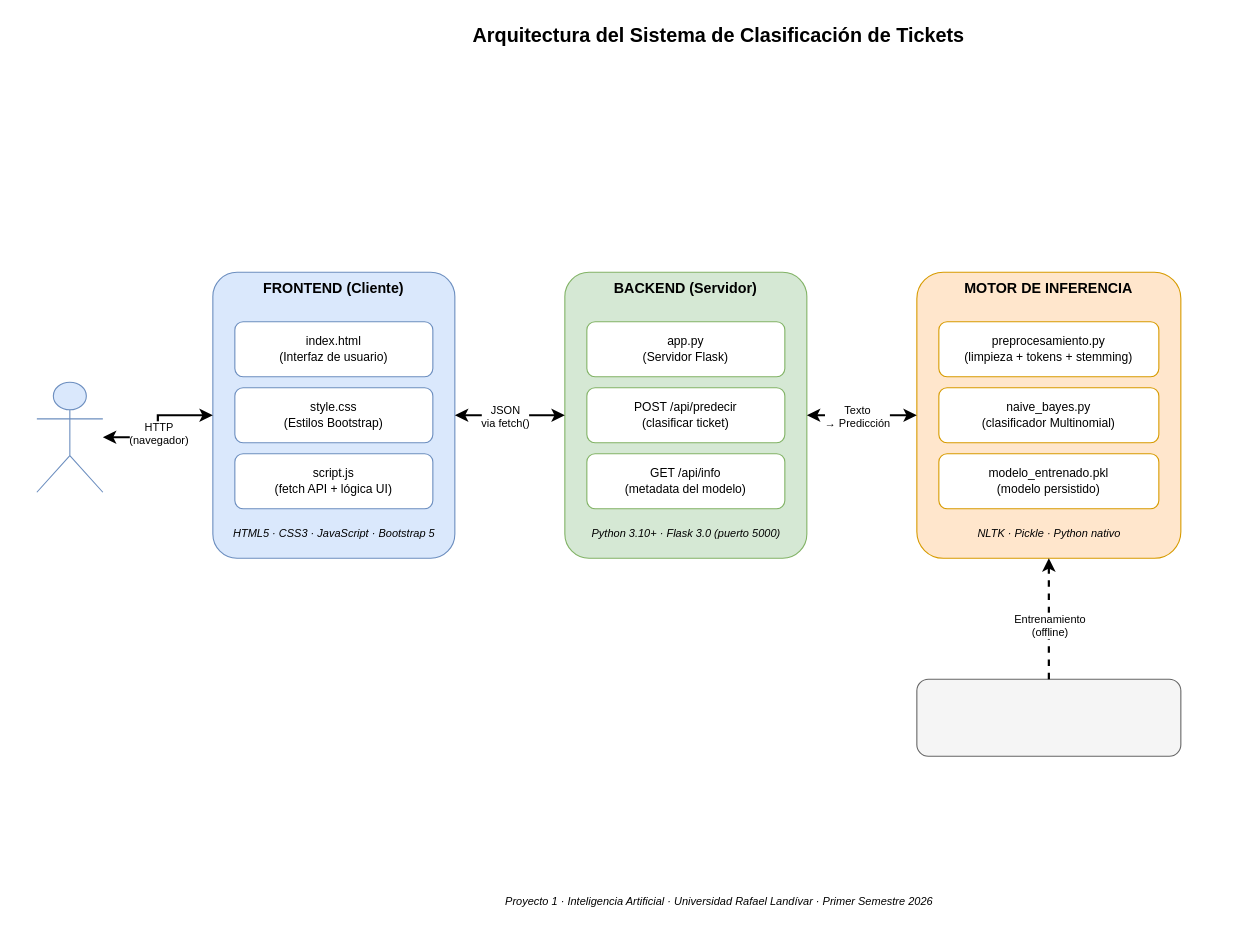
The diagram is 1233 pixels wide and 934 high, and some of its shapes have lost their labels. The shapes that lost their labels are listed below. From the top down, each one's centre as x and y in pixels, then its label:
At (x=69, y=436): "Agente de Soporte Ingresa tickets al sistema".
At (x=1048, y=717): "Dataset Bitext Customer Support 26,872 tickets · 11 categorías".
